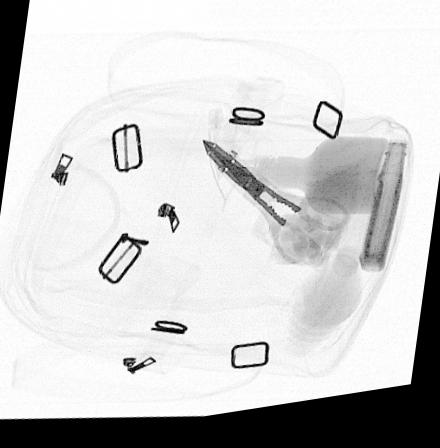Scissors: (201, 144, 350, 277)
